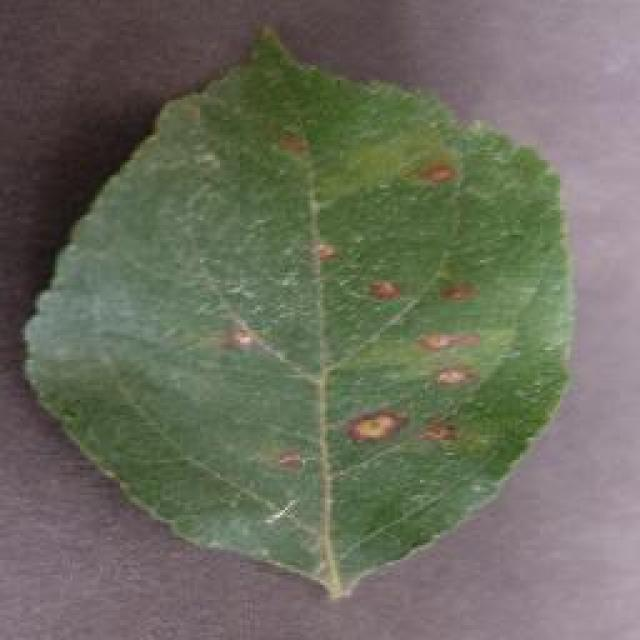apple cedar apple rust: (18, 22, 578, 600)
